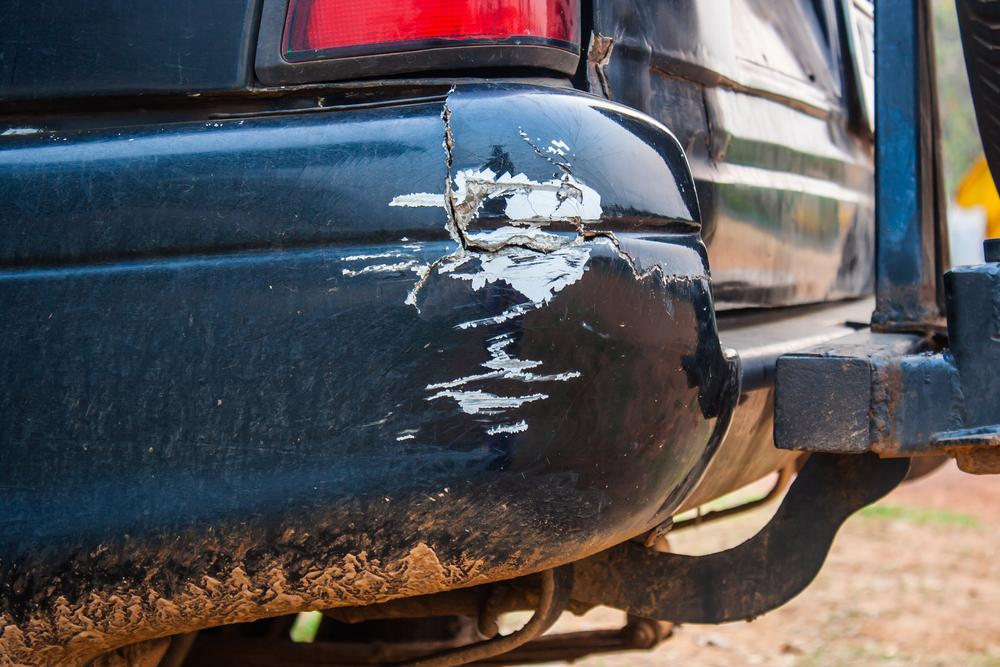crack: (442, 101, 711, 285)
scratch: (342, 182, 607, 457), (454, 160, 616, 247)
